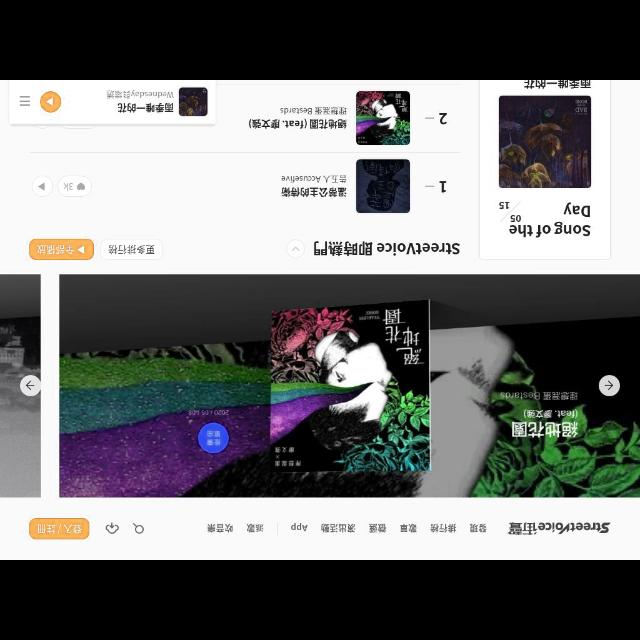button: (198, 423, 228, 452), (40, 93, 60, 111)
icon: (20, 374, 42, 398), (598, 374, 620, 396), (105, 522, 122, 536), (131, 522, 149, 534), (19, 95, 29, 108), (75, 181, 85, 191), (38, 180, 46, 192)
image: (1, 274, 640, 496), (500, 95, 590, 187), (356, 161, 410, 211), (359, 94, 409, 142), (509, 520, 611, 536), (180, 90, 208, 116)
spinner: (286, 242, 308, 256)
text: (496, 198, 592, 238), (313, 236, 462, 258), (512, 409, 578, 439), (30, 239, 90, 259), (249, 120, 349, 130), (500, 390, 578, 402), (280, 186, 348, 198), (520, 81, 594, 91), (117, 102, 175, 112), (280, 107, 348, 115), (282, 174, 348, 182), (106, 89, 172, 97), (204, 524, 238, 536), (189, 408, 229, 418), (241, 522, 267, 534), (319, 524, 357, 532), (429, 524, 455, 534), (368, 522, 388, 534), (468, 525, 490, 533), (399, 524, 416, 532), (440, 112, 448, 128), (62, 180, 72, 192), (292, 525, 308, 531), (438, 180, 446, 192)
textbutton: (31, 518, 87, 538), (102, 242, 162, 256)
toolbar: (1, 498, 638, 556)
